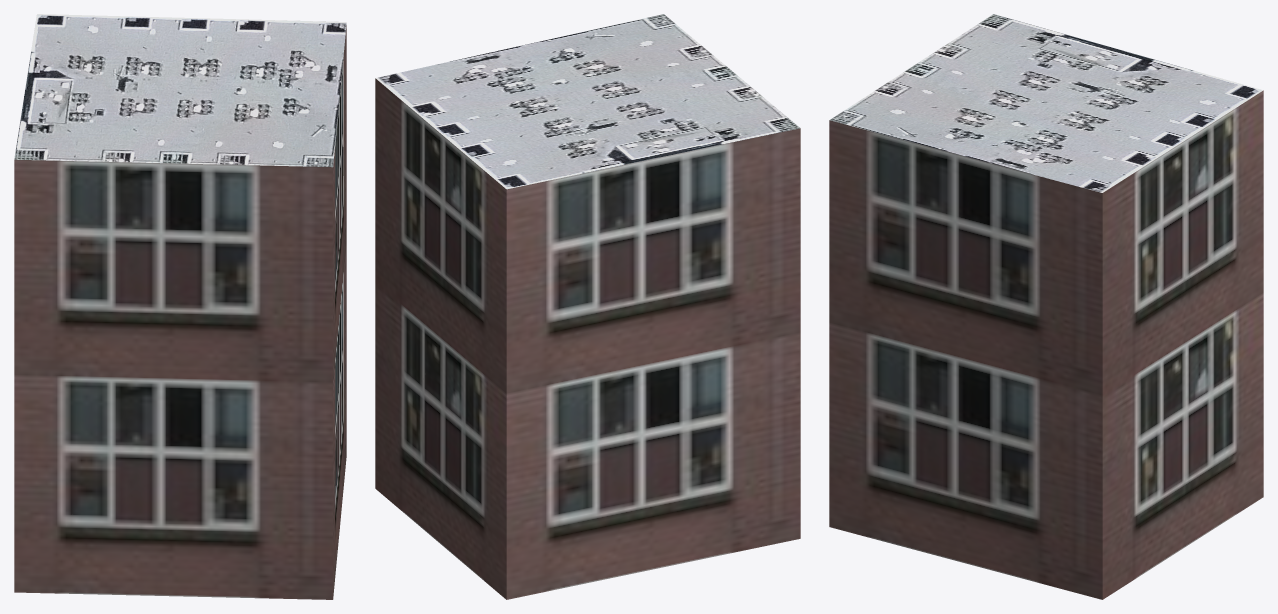
File: ResTex__1835.fbx
3 views of the same model, side by side, from view 1: azimuth 30°, elevation 25°; view 2: azimuth 150°, elevation 25°; view 3: azimuth 270°, elevation 25° (orthographic). The views are drawn at different scales.
Visible parts, largest first — view 1: CityEngineMaterial_12_m, CityEngineMaterial_2_m; view 2: CityEngineMaterial_12_m, CityEngineMaterial_2_m; view 3: CityEngineMaterial_12_m, CityEngineMaterial_2_m.
Part boxes in pixels (x1,y1,x2,y2): CityEngineMaterial_12_m: [14, 25, 346, 599]; CityEngineMaterial_2_m: [14, 14, 346, 167]; CityEngineMaterial_12_m: [375, 78, 800, 599]; CityEngineMaterial_2_m: [375, 14, 800, 189]; CityEngineMaterial_12_m: [829, 90, 1263, 599]; CityEngineMaterial_2_m: [829, 14, 1262, 192].
Bounding box in the file's own units: 5.67 × 6 × 5.81.
Materials: 2 (2 with a texture image).
